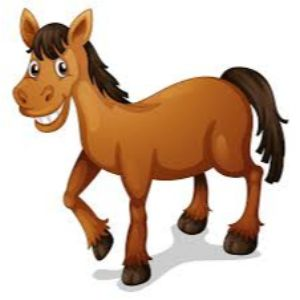horse: (4, 5, 288, 288)
